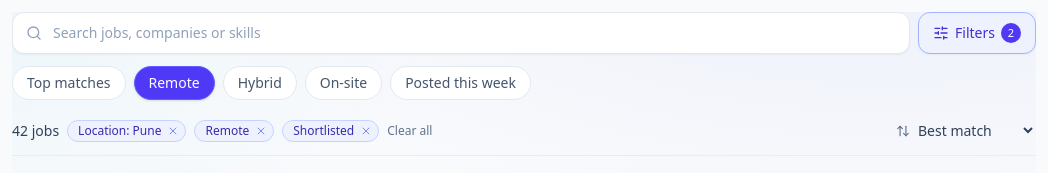
JobFilters › toggles quick filters, applies the panel only on Show results, and removes chips
Earlier steps of the test are not shown.
Expected: the text "Location: Pune" is shown, [78, 122, 161, 138]
Expected: the text "Shortlisted" is shown, [293, 122, 354, 138]
Click the button named "Remove filter" next to "Location: Pune". click: (173, 130)
box: [165, 122, 181, 138]
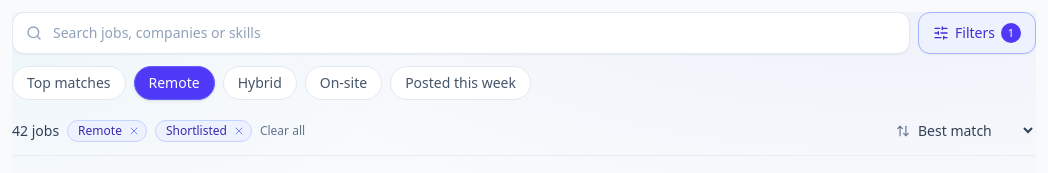
Now the text "Location: Pune" is gone
